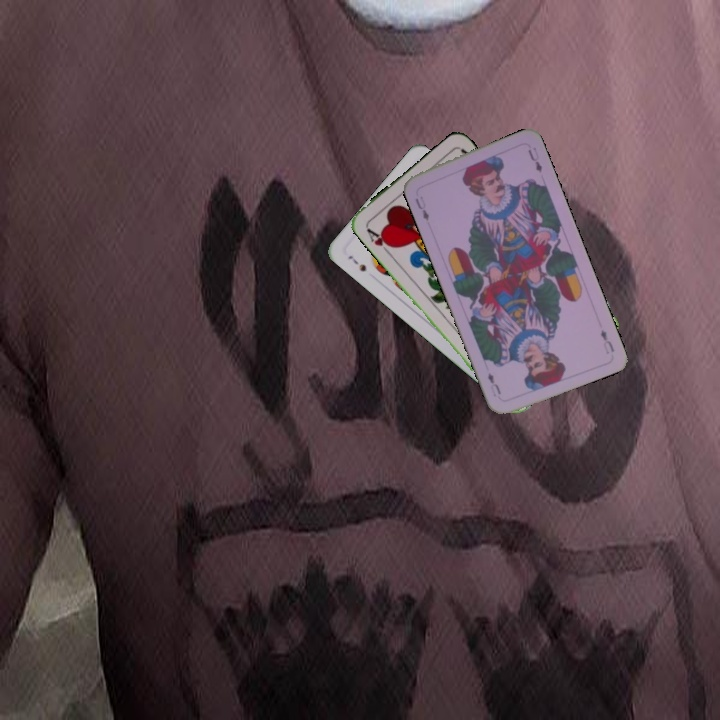EU: (411, 192, 432, 223), (596, 325, 617, 355)
HA: (362, 222, 396, 257)
S7: (344, 251, 369, 274)
